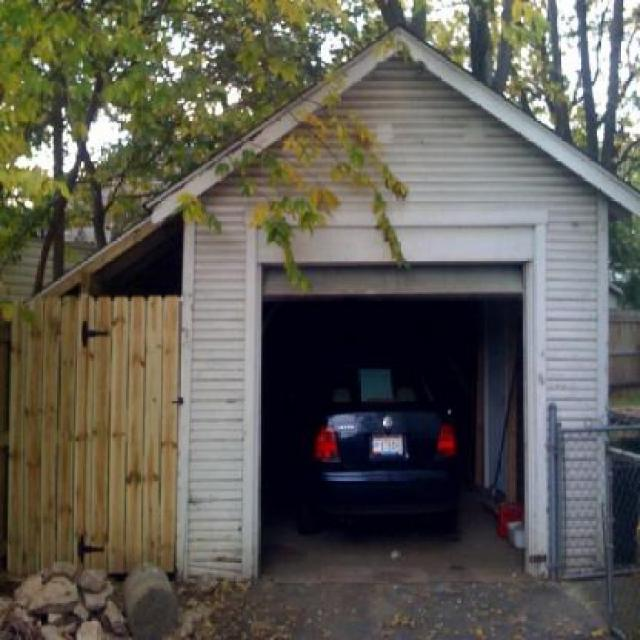License-Plates: (372, 435, 403, 456)
